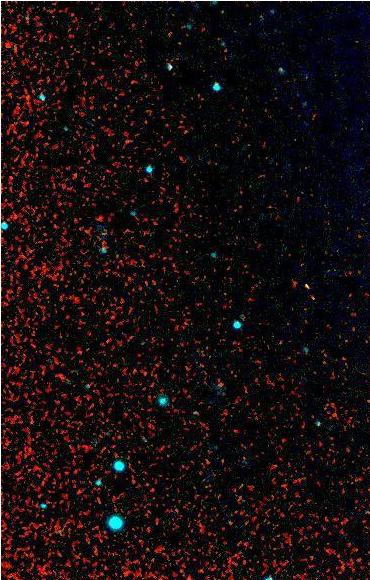star: (292, 270, 322, 300)
